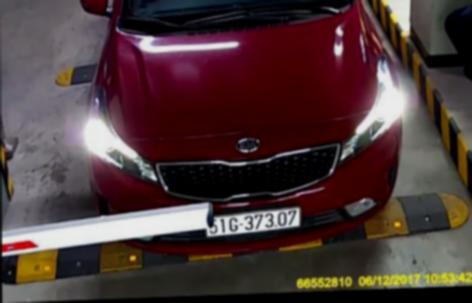License_Plate: (204, 205, 304, 235)
